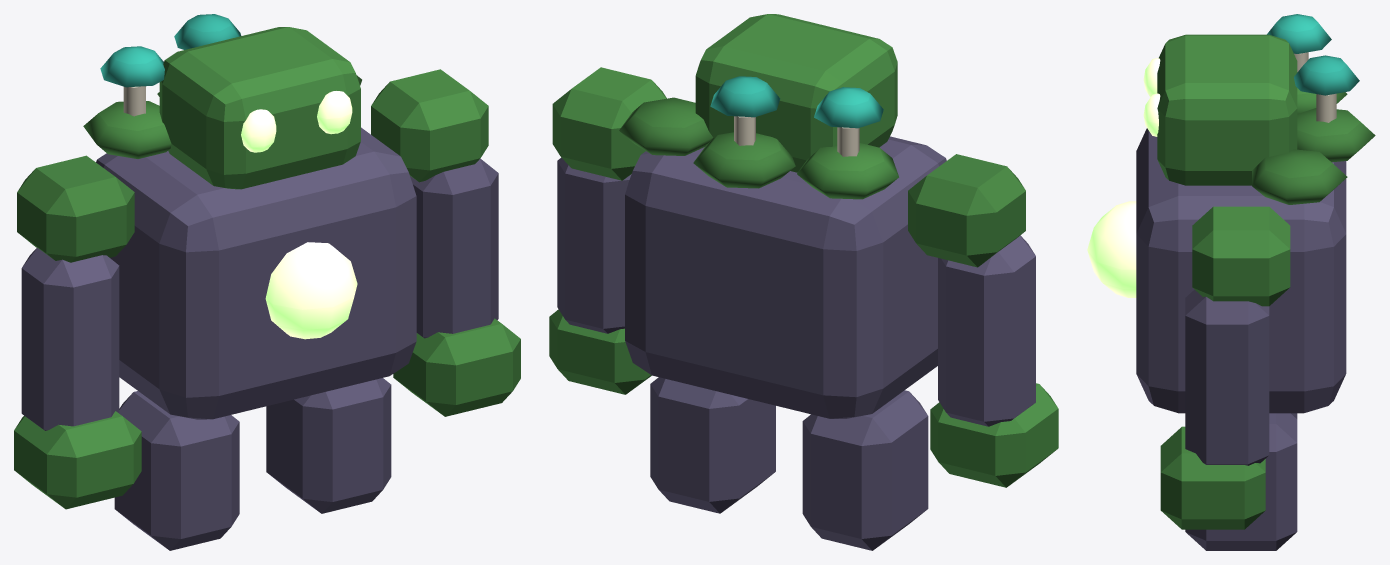
Rendered from monster_moss_golem.glb.
3 views of the same model, side by side, from view 1: azimuth 30°, elevation 25°; view 2: azimuth 150°, elevation 25°; view 3: azimuth 270°, elevation 25° (orthographic). The views are drawn at different scales.
Parts seen in each view (by area): view 1: body_t0_palette, arml_t0_palette, armr_t0_palette, legl_t0_palette, legr_t0_palette, body_t0_glow_green; view 2: body_t0_palette, arml_t0_palette, armr_t0_palette, legl_t0_palette, legr_t0_palette; view 3: body_t0_palette, armr_t0_palette, legr_t0_palette, body_t0_glow_green.
Boxes of the visible parts, x1,y1,x2,y2 form: body_t0_palette: (83,14,416,419); arml_t0_palette: (14,155,141,509); armr_t0_palette: (371,69,520,416); legl_t0_palette: (114,391,239,550); legr_t0_palette: (266,378,391,513); body_t0_glow_green: (241,91,357,339); body_t0_palette: (619,14,946,418); arml_t0_palette: (908,154,1058,487); armr_t0_palette: (549,67,666,394); legl_t0_palette: (802,390,928,550); legr_t0_palette: (650,377,775,513); body_t0_palette: (1136,14,1375,413); armr_t0_palette: (1160,206,1290,529); legr_t0_palette: (1185,413,1297,550); body_t0_glow_green: (1087,58,1160,297).
Size of the model in its own units: 0.375 by 0.351 by 0.206.
